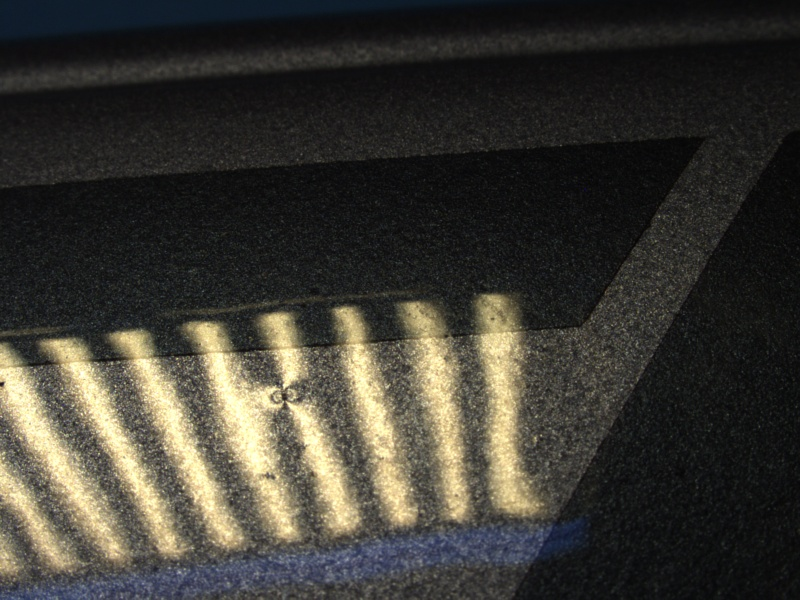bad: (258, 368, 314, 420)
